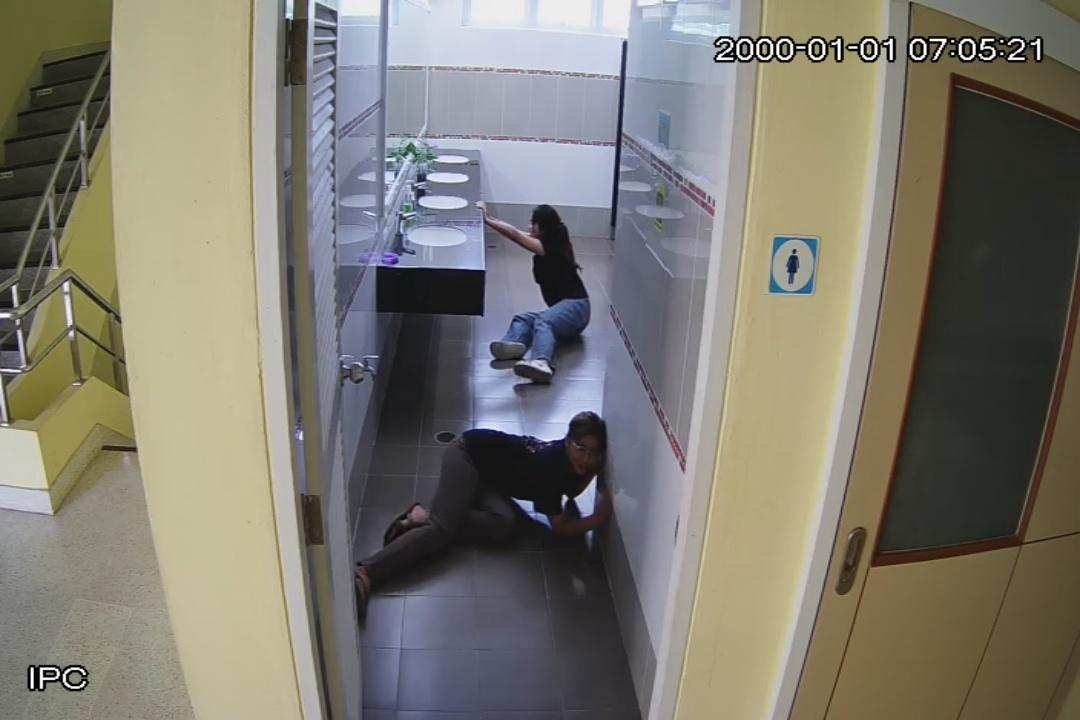fall: (354, 408, 614, 622), (486, 190, 602, 388)
